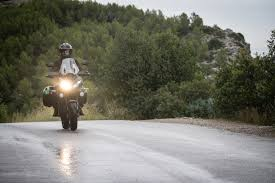moto: (41, 69, 90, 131)
person: (55, 40, 78, 66)
